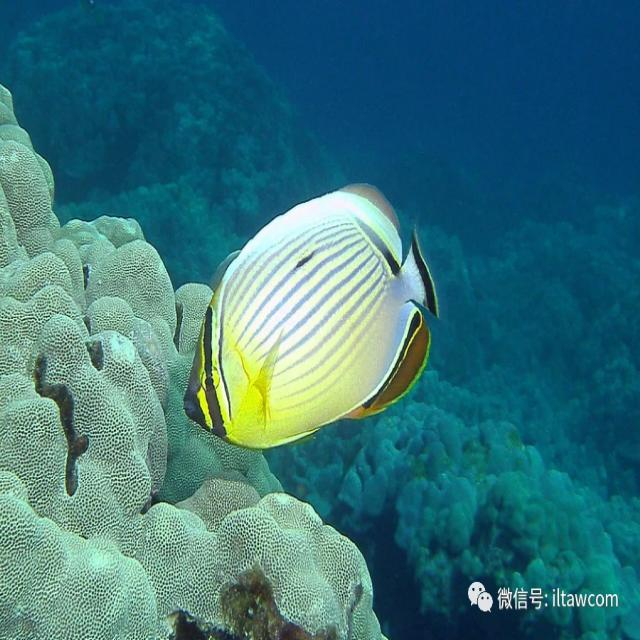ButterflyFish: (182, 192, 436, 446)
